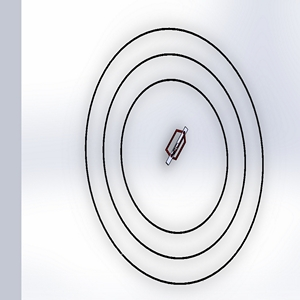circle: (79, 21, 273, 288)
submarine: (158, 124, 197, 170)
